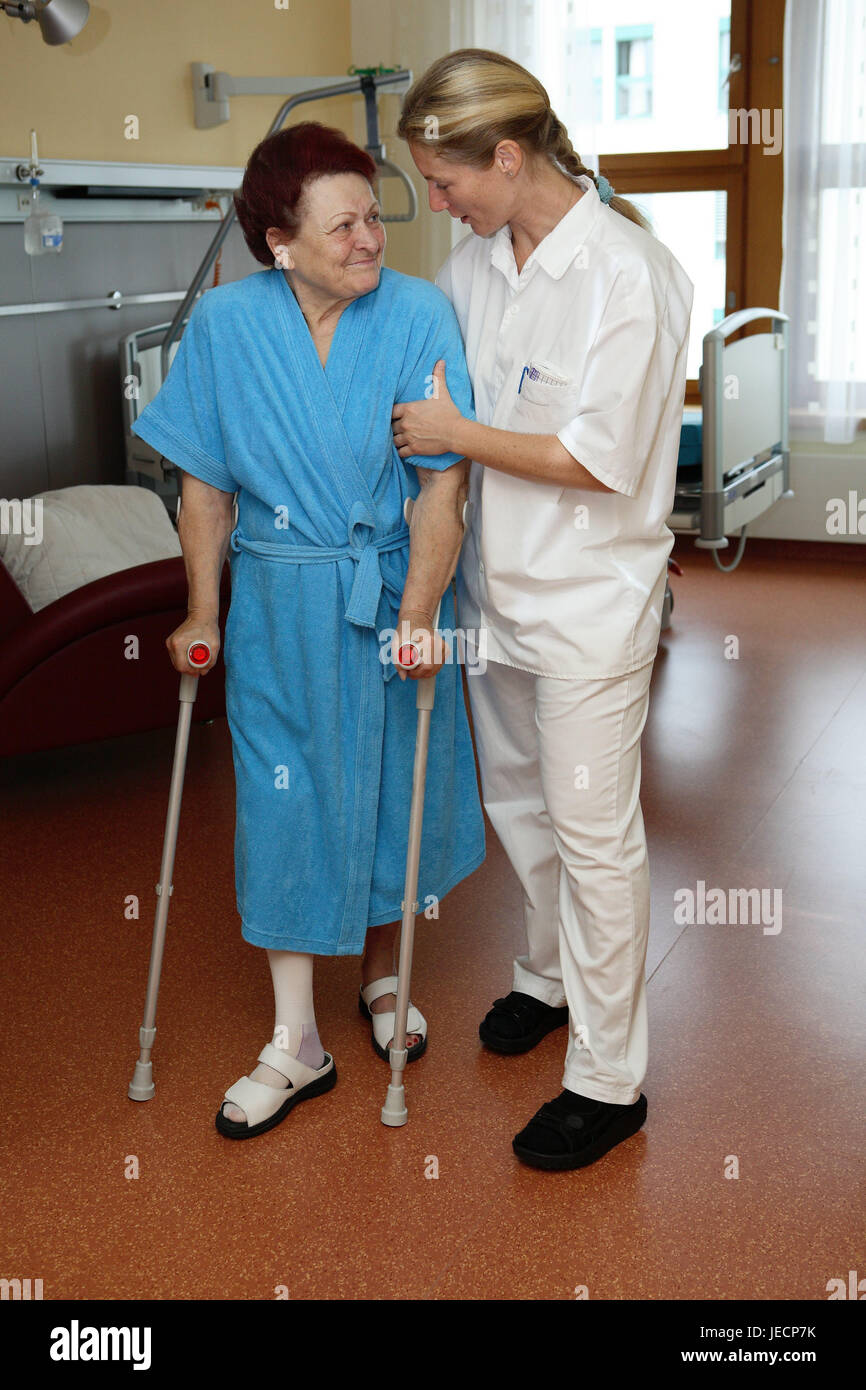crutches: (123, 126, 475, 1137)
